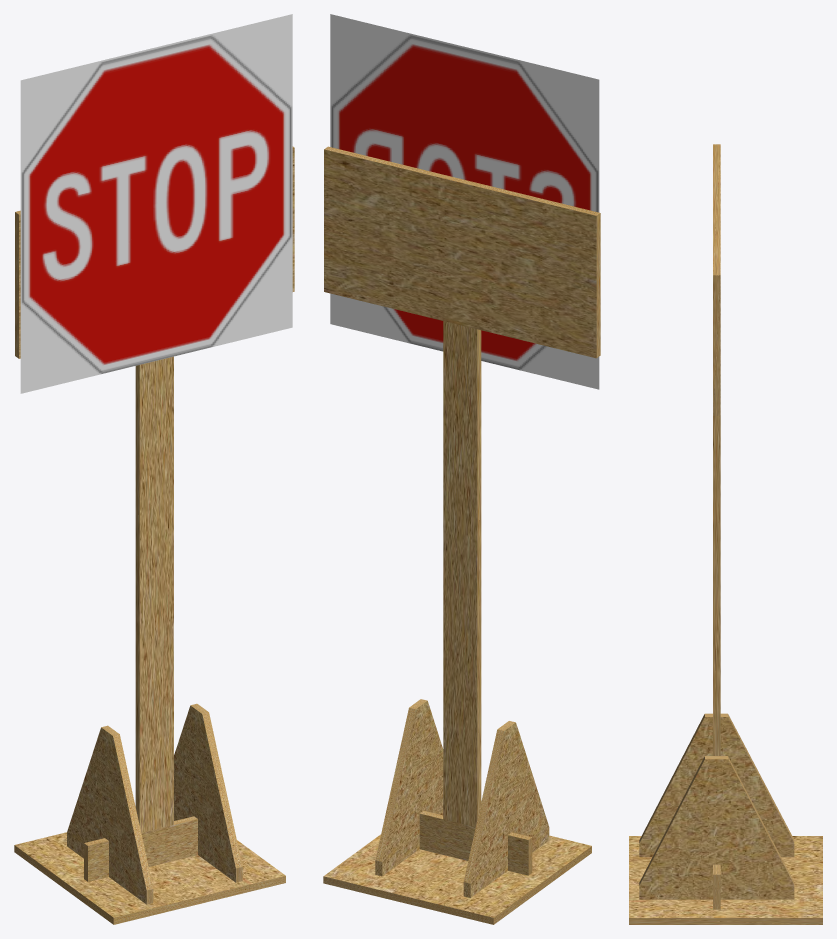
The model's file is Stopsign.glb.
3 views of the same model, side by side, from view 1: azimuth 30°, elevation 25°; view 2: azimuth 150°, elevation 25°; view 3: azimuth 270°, elevation 25° (orthographic). The views are drawn at different scales.
Visible parts, largest first — view 1: Cube.009; view 2: Cube.009; view 3: Cube.009.
Boxes of the visible parts, x1,y1,x2,y2 form: Cube.009: [14, 14, 294, 924]; Cube.009: [323, 14, 600, 924]; Cube.009: [629, 144, 822, 924].
Size of the model in its own units: 0.1323 by 0.3789 by 0.0827.
Materials: 2 (2 with a texture image).
